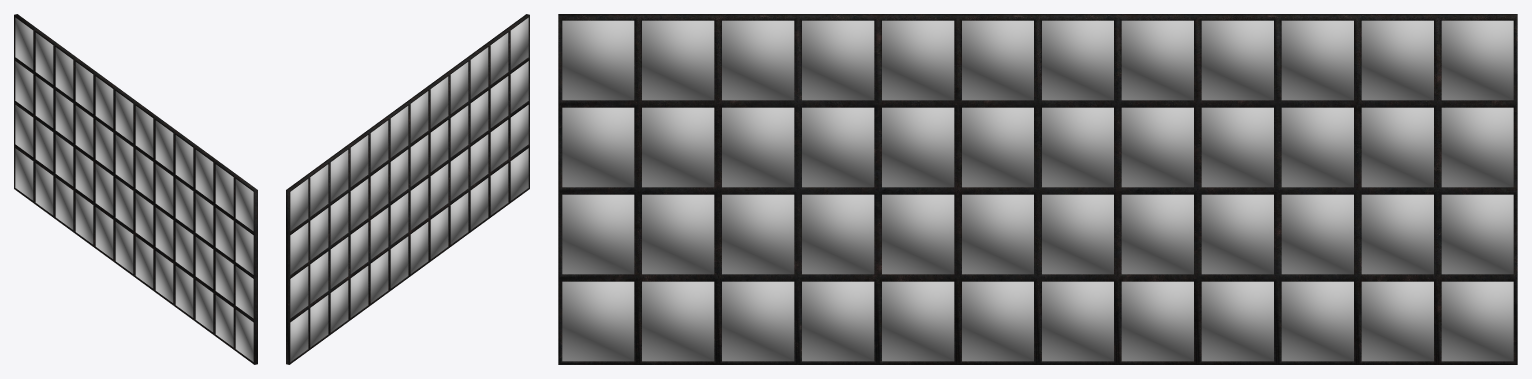
Rendered from simple big window black frame.fbx.
3 renders of one model, left to right at view 1: azimuth 30°, elevation 25°; view 2: azimuth 150°, elevation 25°; view 3: azimuth 270°, elevation 25°, orthographic. The views are drawn at different scales.
Visible parts, largest first — view 1: vidros, frames; view 2: vidros, frames; view 3: vidros, frames.
Part boxes in pixels (<box>): vidros: <box>15,17,253,361</box>; frames: <box>14,14,257,364</box>; vidros: <box>290,17,528,361</box>; frames: <box>286,14,529,364</box>; vidros: <box>562,20,1513,361</box>; frames: <box>558,14,1517,364</box>.
Size of the model in its own units: 4 by 200 by 500.
